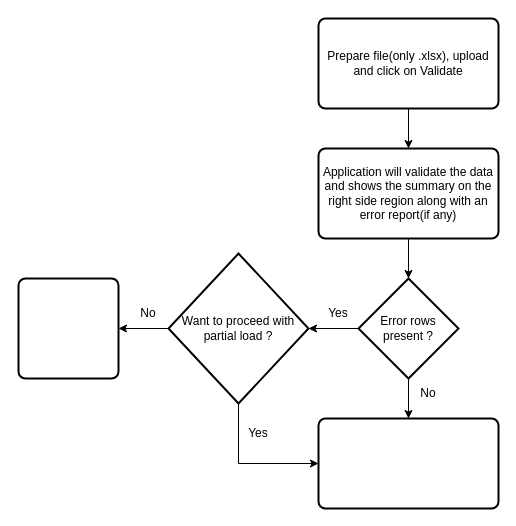
Image size: 516x526. Some labels were removed from this diagram. Here are the shapes that lost their labels. From the top down, the centre of each, then its label:
At [68,328]: "Click on Reset, correct the file and load the data again.".
At [408,463]: "Click on Process Data button to proceed with processing the data".
